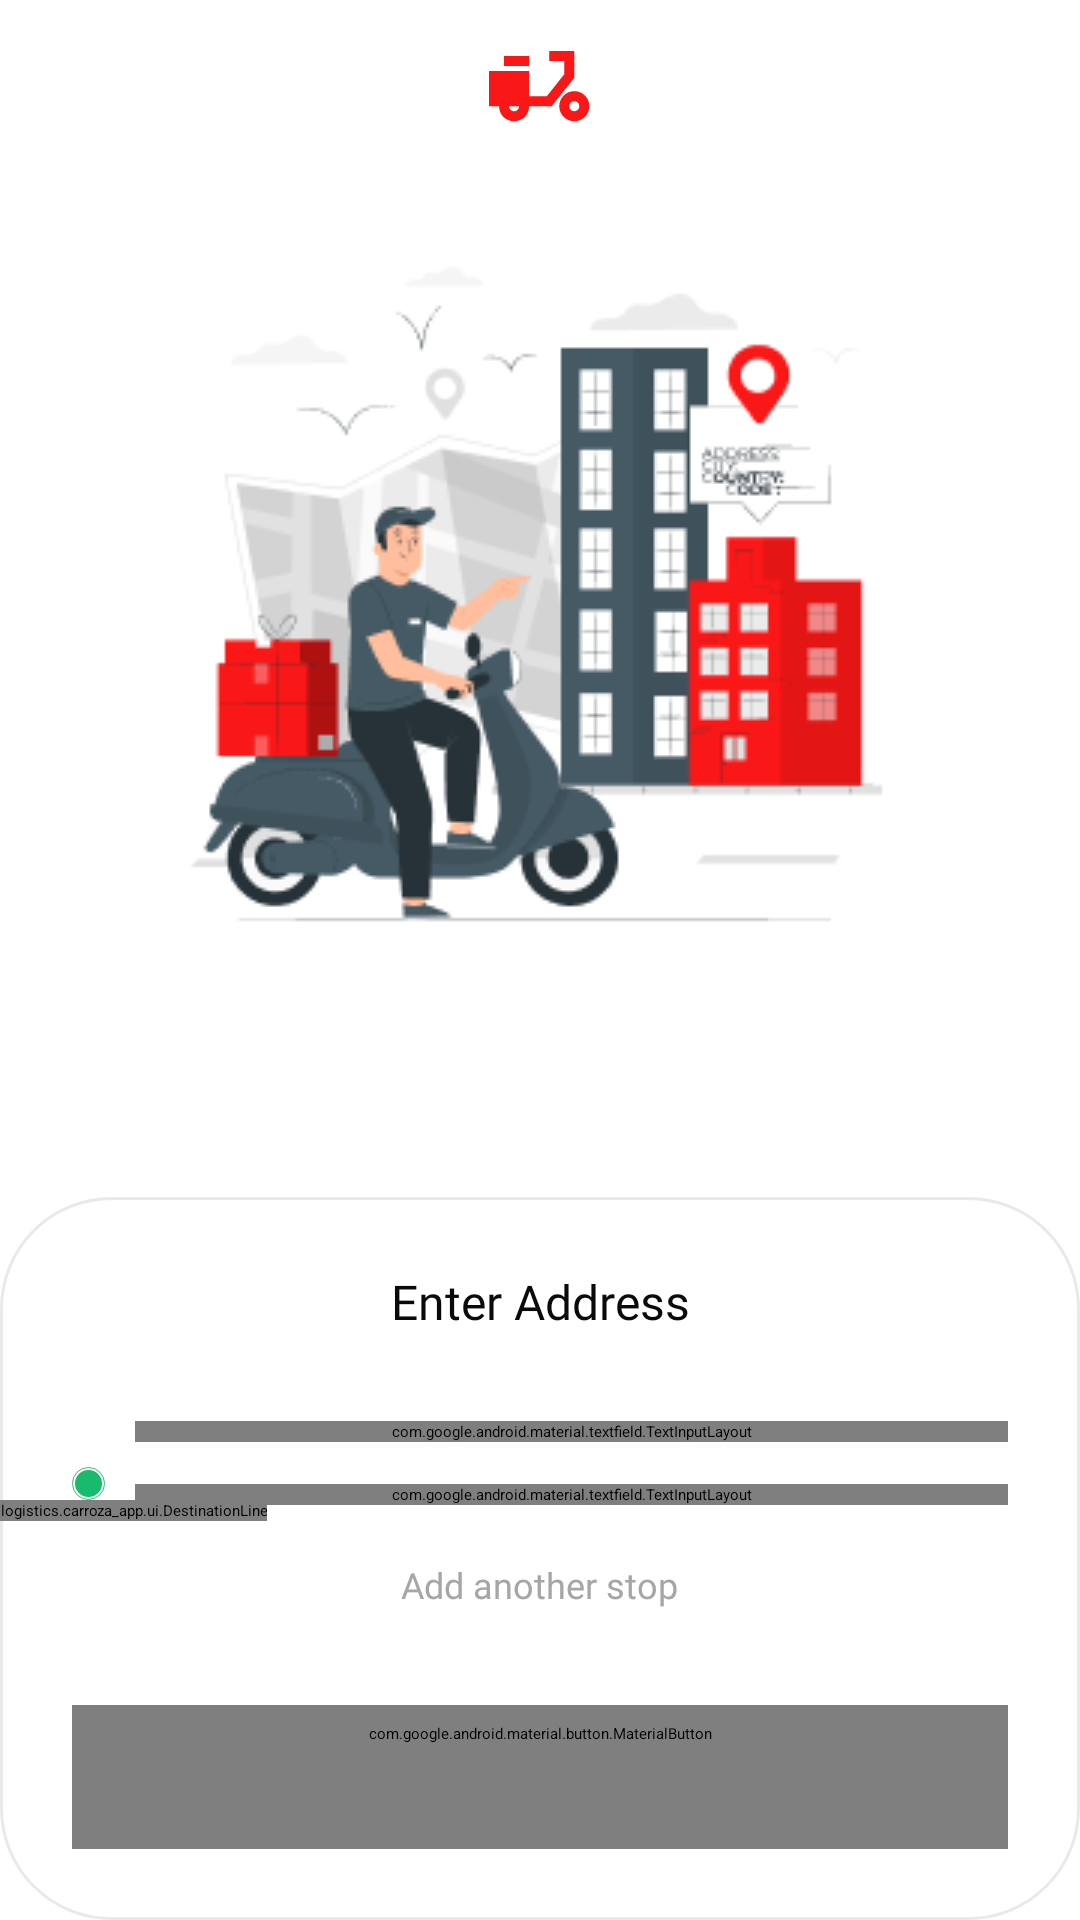

Icons on this 1080 x 1920 Android screen, each with its box as (x1, y1, x2, y2):
qr bike: (489, 51, 590, 122)
